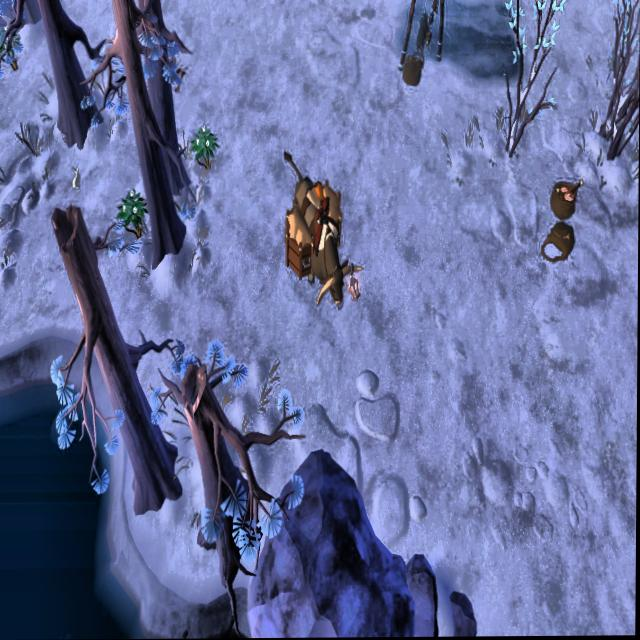fiber_t3: (119, 188, 149, 244), (190, 122, 219, 175)
